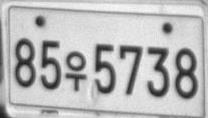3: (146, 46, 170, 97)
5: (93, 43, 116, 94), (39, 39, 61, 90)
7: (119, 44, 143, 95)
8: (174, 47, 199, 99), (13, 37, 36, 88)
우: (64, 50, 87, 91)
